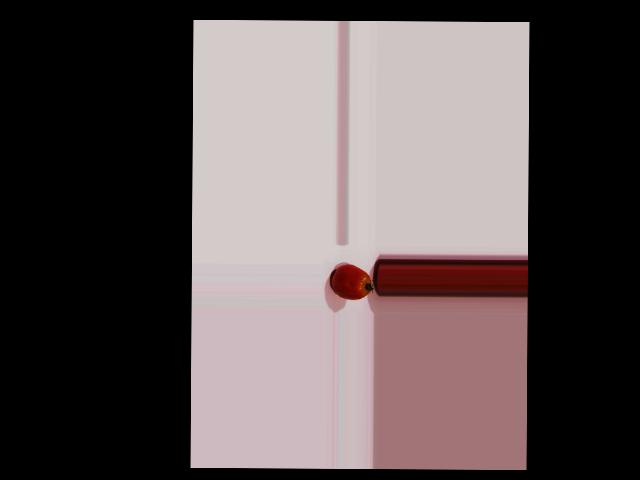tomato: (332, 264, 371, 299)
